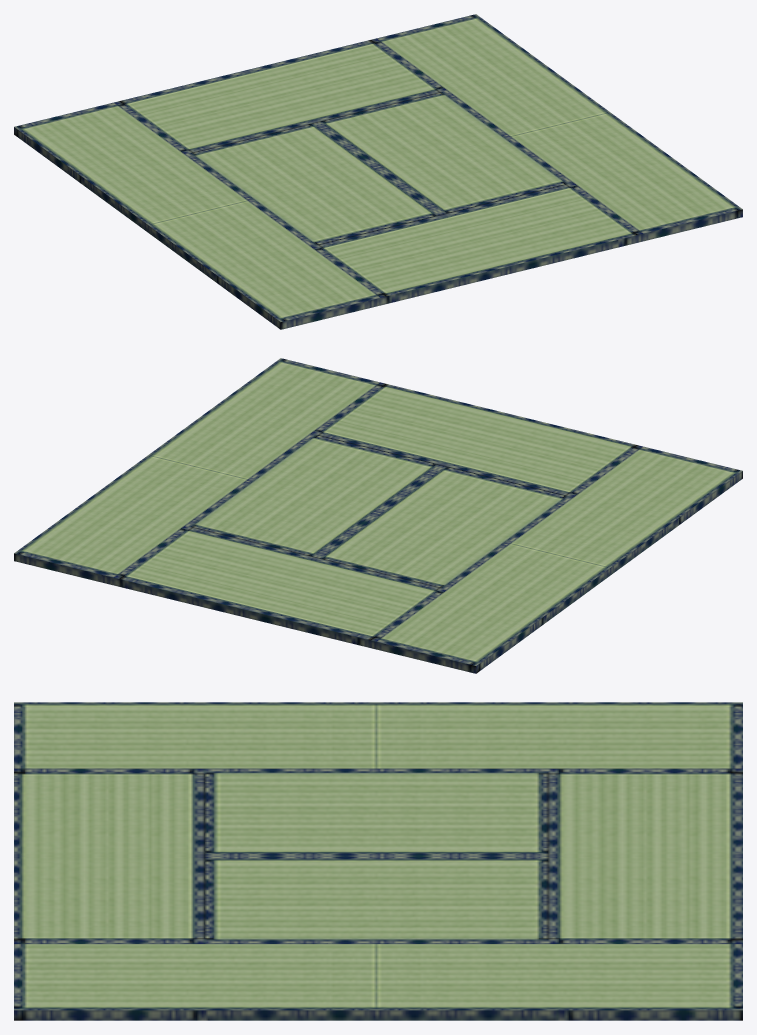
Rendered from tatami_mat.fbx.
The picture shows the model from 3 angles, top to bottom: view 1: azimuth 30°, elevation 25°; view 2: azimuth 150°, elevation 25°; view 3: azimuth 270°, elevation 25°; orthographic projection. The views are drawn at different scales.
Visible parts, largest first — view 1: tatami_mat; view 2: tatami_mat; view 3: tatami_mat.
Part boxes in pixels (bbox=[...]): tatami_mat: bbox=[14, 14, 742, 329]; tatami_mat: bbox=[14, 358, 742, 673]; tatami_mat: bbox=[14, 702, 742, 1020].
Bounding box in the file's own units: 200 × 3.19 × 200.
